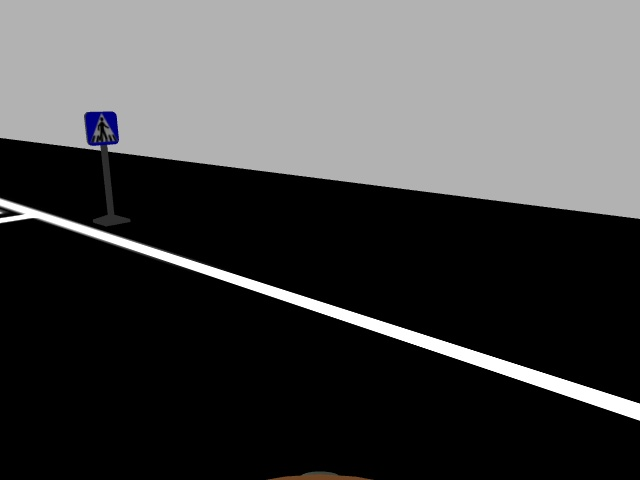crosswalk: (82, 108, 121, 148)
